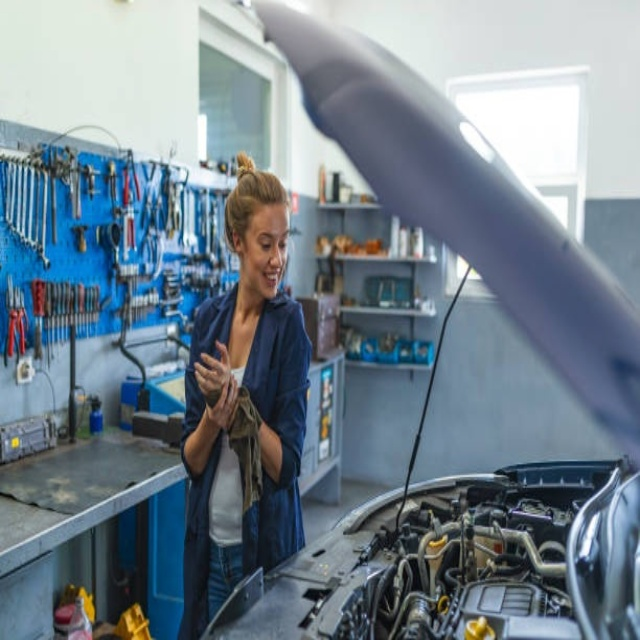Sin_gafas: (250, 216, 290, 251)
Sin_guantes: (196, 339, 240, 429)
Sin_mascara: (254, 268, 285, 296)
